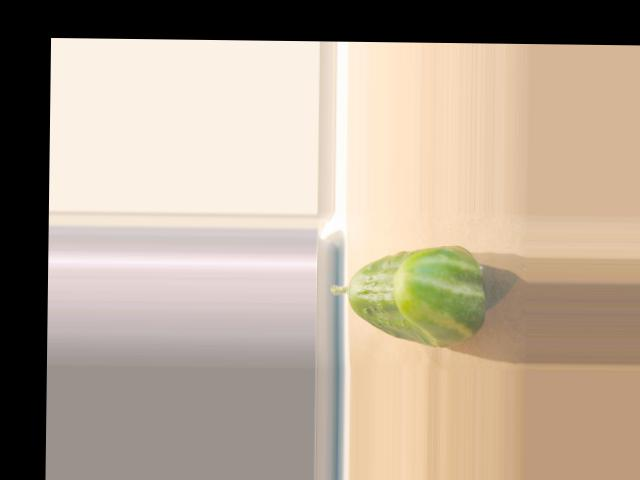cucumber: (329, 243, 486, 346)
